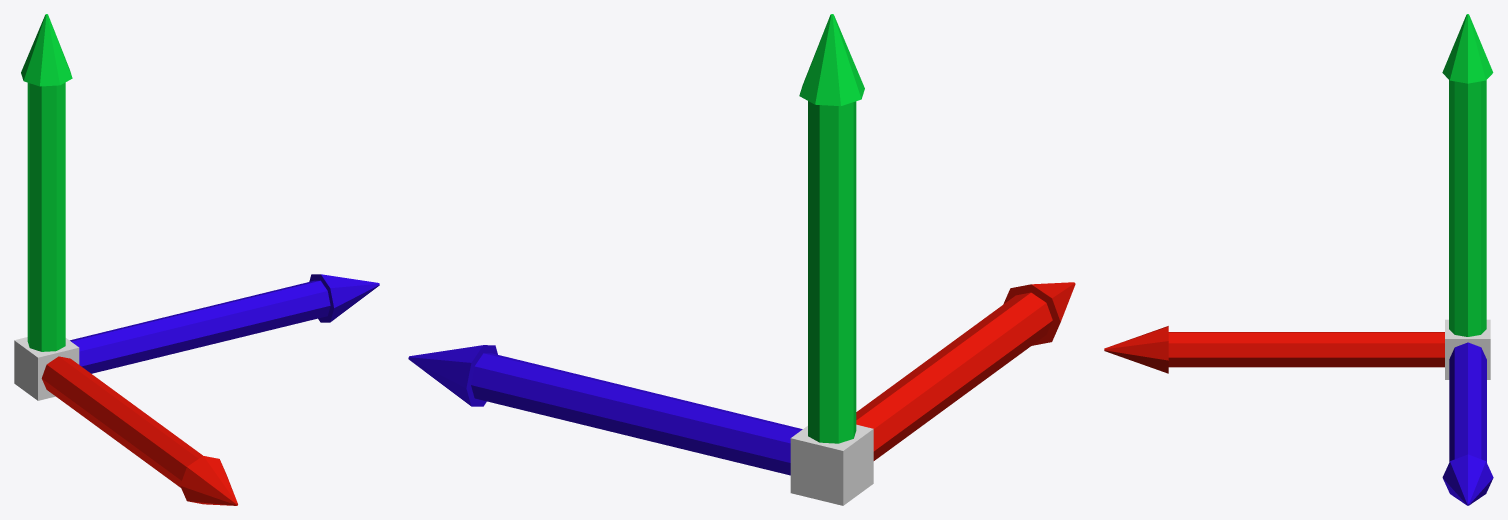
Rendered from TransformGIzmo.glb.
3 views of the same model, side by side, from view 1: azimuth 30°, elevation 25°; view 2: azimuth 150°, elevation 25°; view 3: azimuth 270°, elevation 25° (orthographic). The views are drawn at different scales.
Parts seen in each view (by area): view 1: Transform; view 2: Transform; view 3: Transform.
Boxes of the visible parts, <box> form: Transform: <box>14,14,379,505</box>; Transform: <box>408,14,1075,505</box>; Transform: <box>1104,14,1493,505</box>.
Size of the model in its own units: 1.04 by 1.05 by 1.04.
